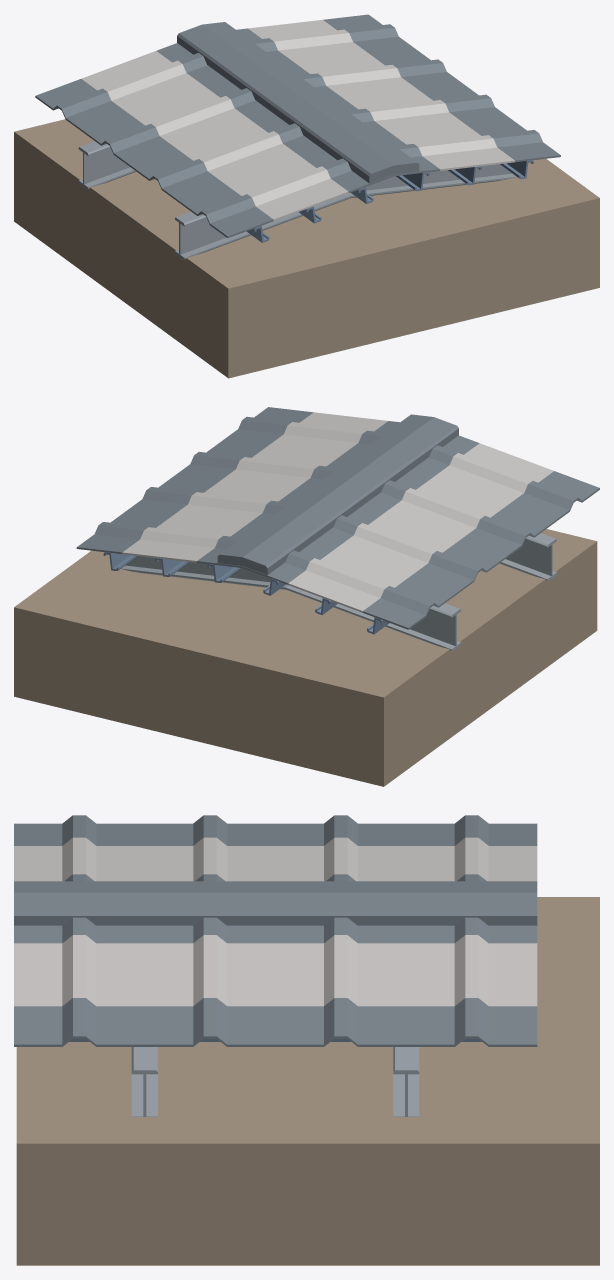
The model's file is bay.glb.
3 renders of one model, top to bottom at view 1: azimuth 30°, elevation 25°; view 2: azimuth 150°, elevation 25°; view 3: azimuth 270°, elevation 25°, orthographic. The views are drawn at different scales.
Visible parts, largest first — view 1: bay; view 2: bay; view 3: bay.
Boxes of the visible parts, <box> form: bay: <box>14,14,599,378</box>; bay: <box>14,407,599,786</box>; bay: <box>14,815,599,1265</box>.
Size of the model in its own units: 4.48 by 1.99 by 4.48.
